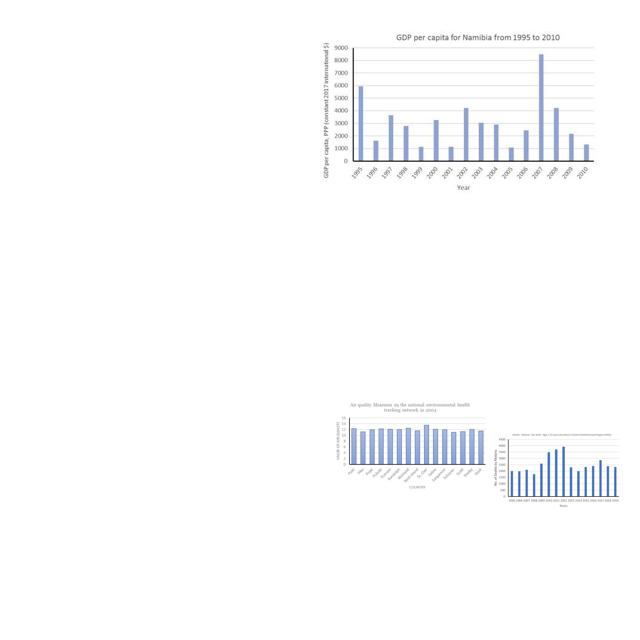Graph: (320, 31, 597, 194), (332, 400, 488, 493), (492, 431, 621, 508)
